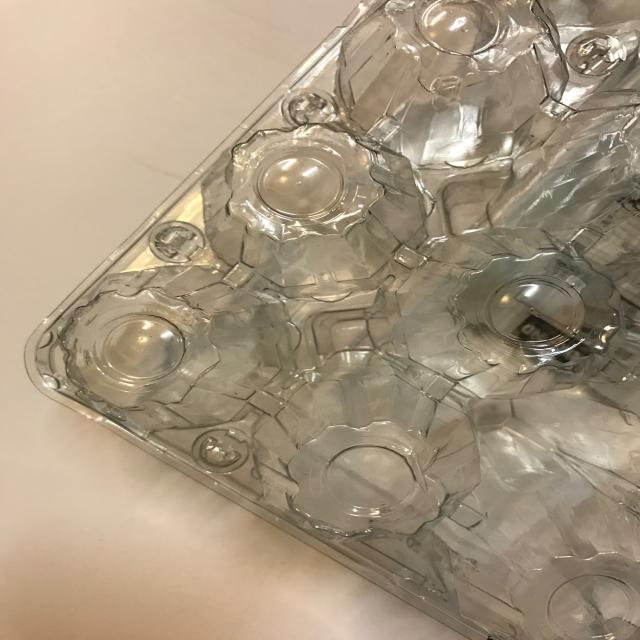plastic: (24, 0, 638, 638)
